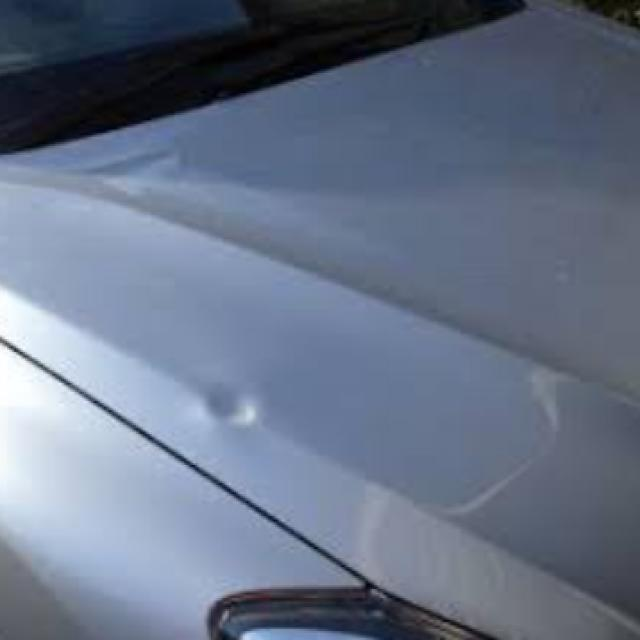dents: (186, 379, 271, 443)
